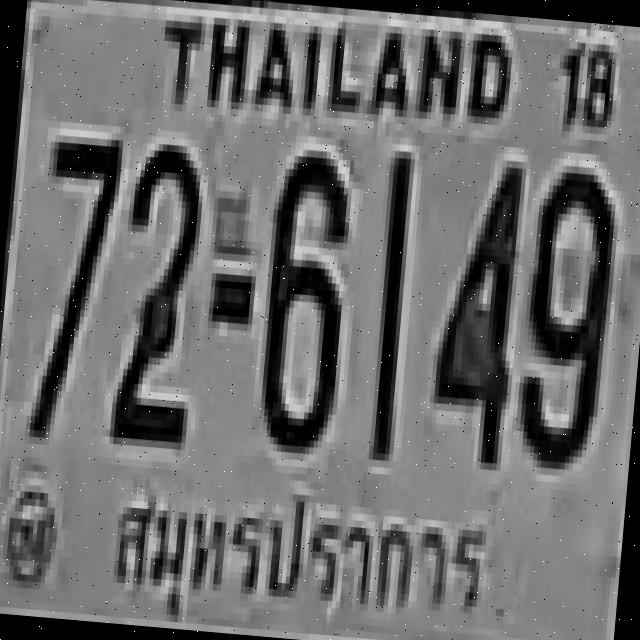1: (362, 147, 413, 457)
2: (107, 134, 205, 442)
4: (424, 148, 524, 464)
6: (253, 144, 351, 452)
7: (23, 127, 122, 436)
9: (513, 163, 618, 465)
SamutPrakan: (94, 469, 510, 640)
